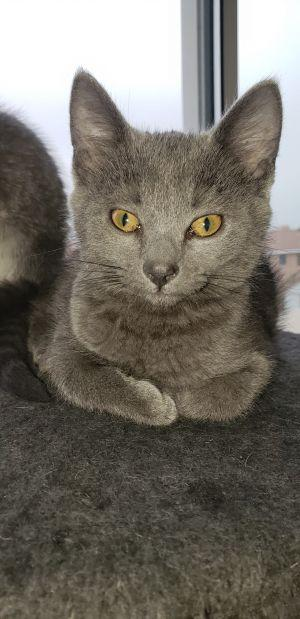rblue: (39, 39, 300, 315)
